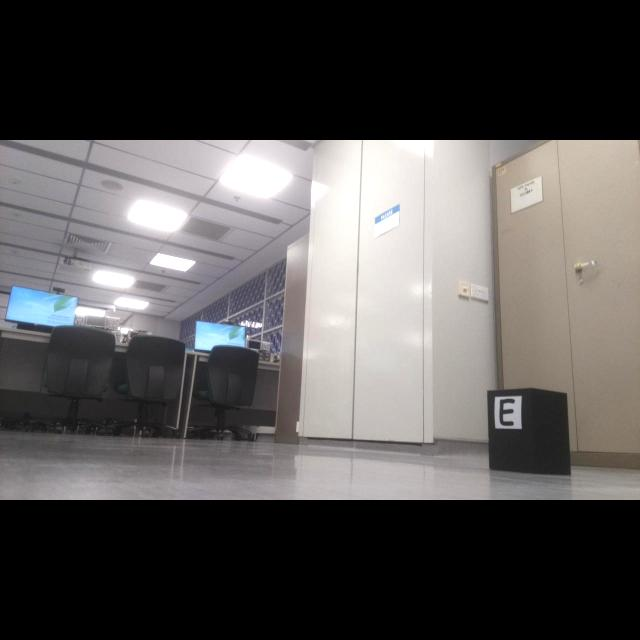E: (499, 399, 515, 428)
